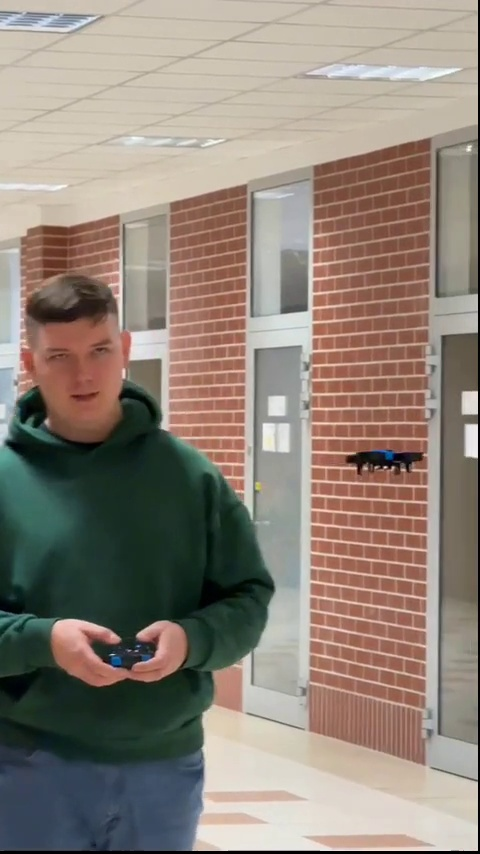drone: (343, 447, 429, 480)
no vest: (0, 279, 281, 825)
